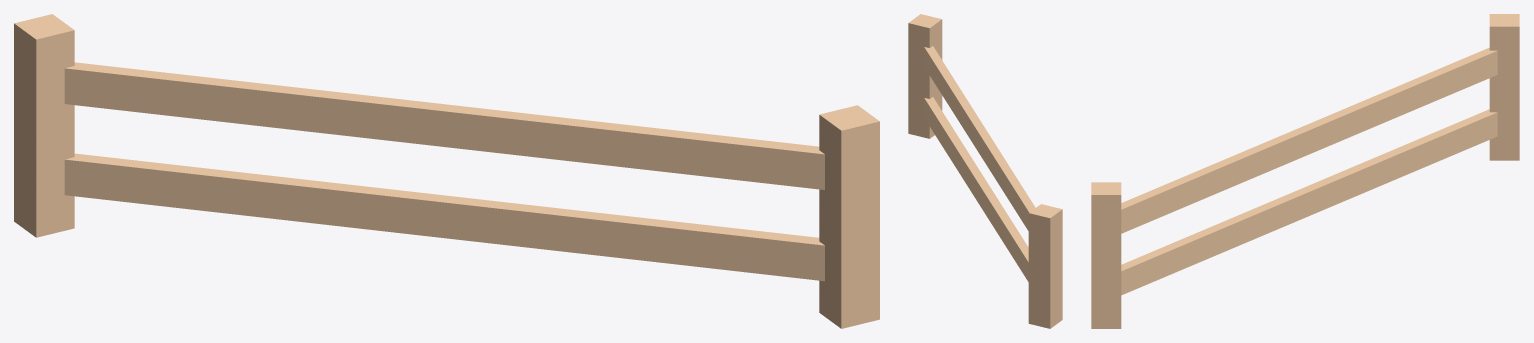
The model's file is fence_diagonal.glb.
3 views of the same model, side by side, from view 1: azimuth 30°, elevation 25°; view 2: azimuth 150°, elevation 25°; view 3: azimuth 270°, elevation 25° (orthographic). The views are drawn at different scales.
Visible parts, largest first — view 1: fence_diagonal; view 2: fence_diagonal; view 3: fence_diagonal.
Part boxes in pixels (box(x1,y1,x2,y2)): fence_diagonal: box(14, 14, 879, 328); fence_diagonal: box(908, 14, 1062, 328); fence_diagonal: box(1091, 14, 1519, 328).
Bounding box in the file's own units: 1 × 0.345 × 1.
